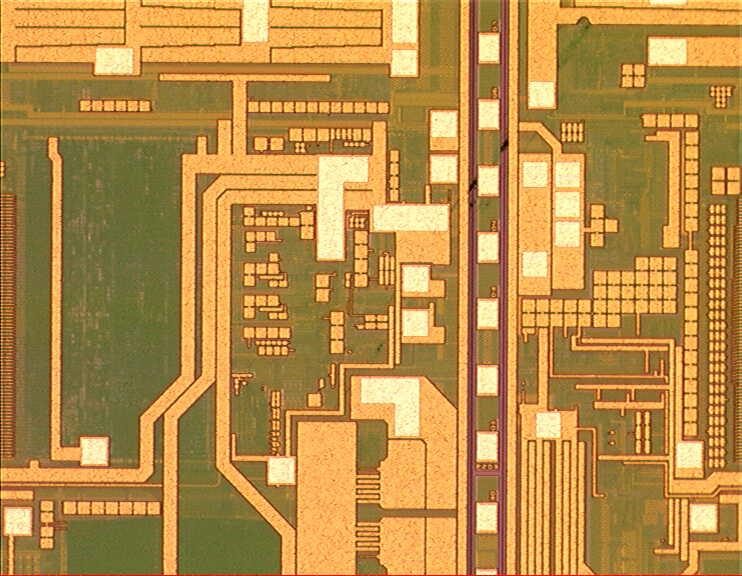SCRATCH: (404, 4, 602, 248)
